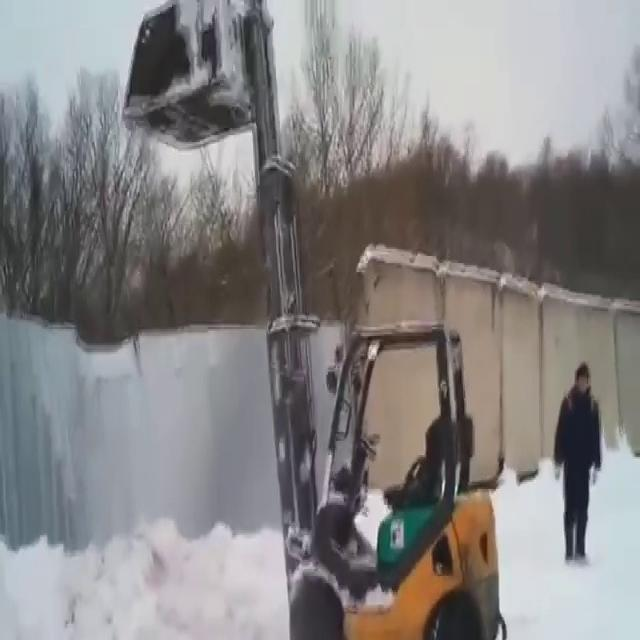forklift: (256, 277, 523, 640)
